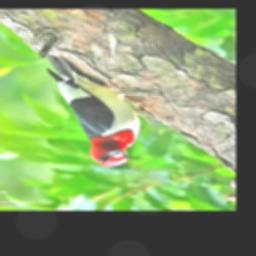Woodpecker: (40, 55, 158, 168)
